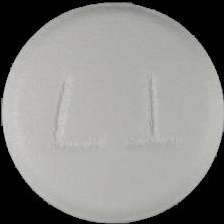0378-4151: (0, 0, 224, 224)
